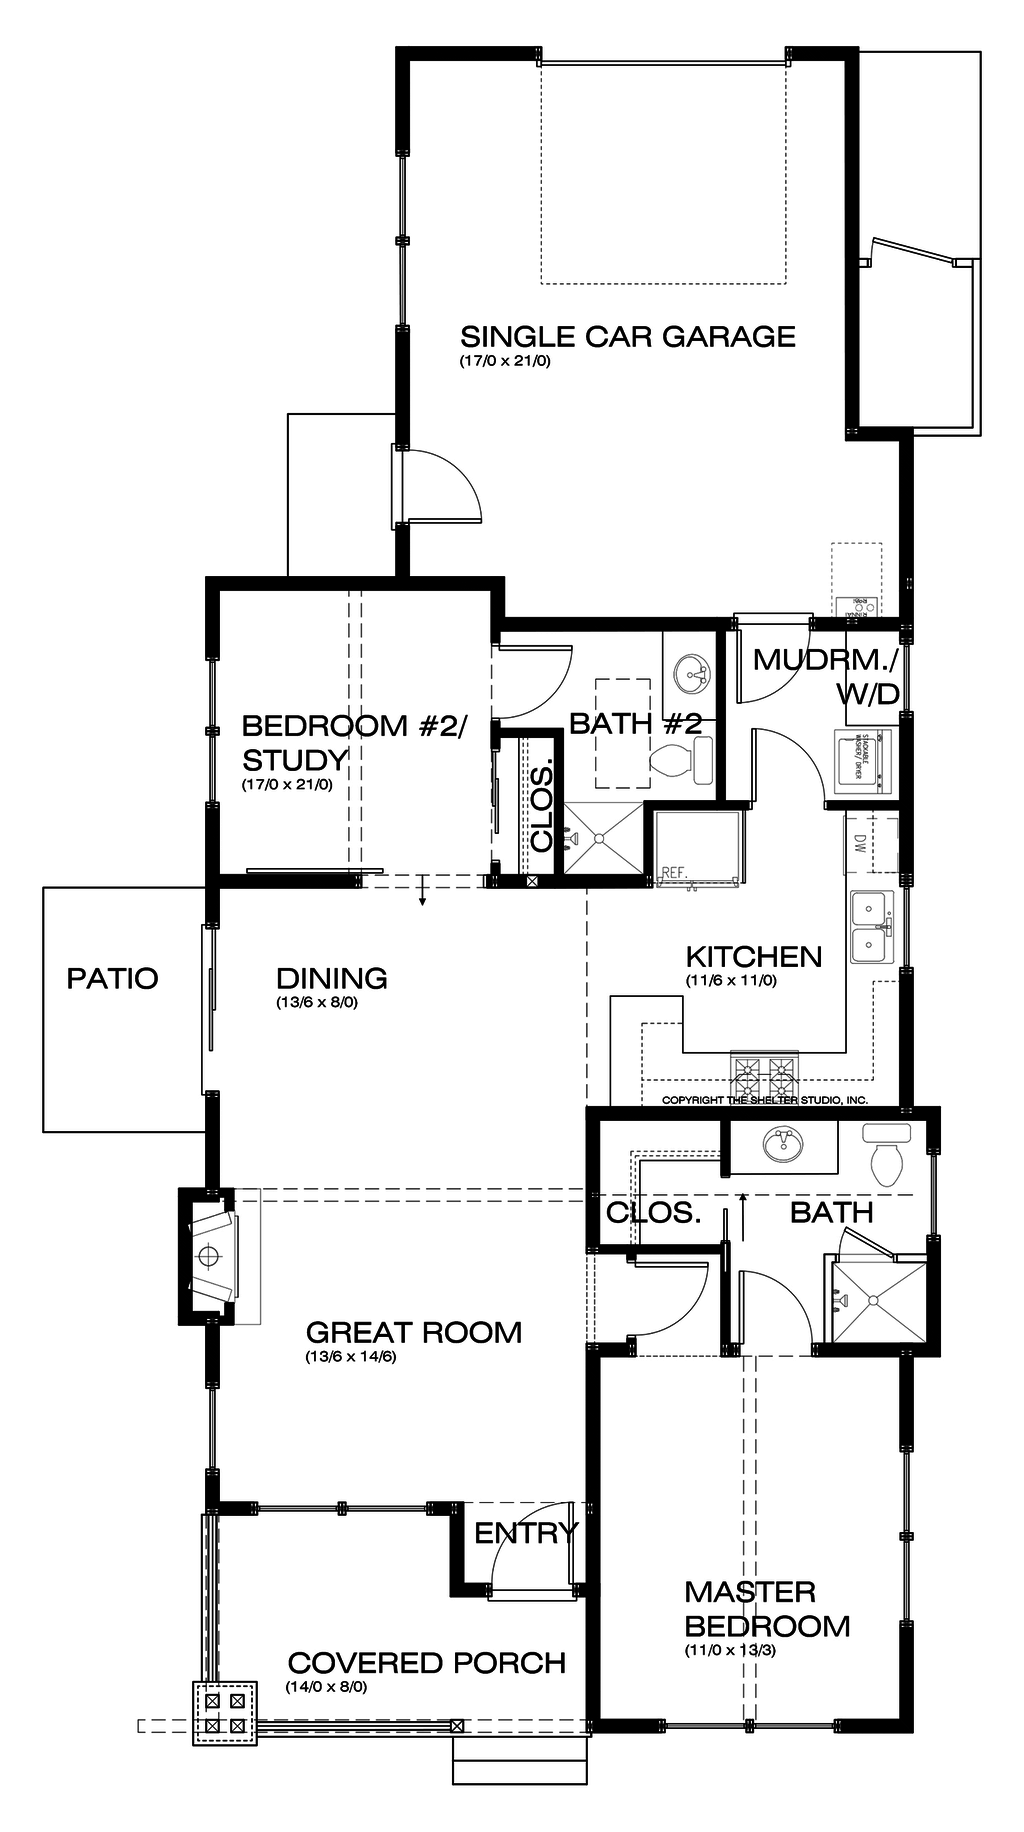door: (374, 429, 491, 544), (479, 1475, 570, 1612), (486, 629, 596, 726), (730, 720, 833, 812), (621, 1246, 710, 1338), (733, 612, 819, 706), (738, 1266, 813, 1360), (830, 1215, 910, 1270)
large_sink: (848, 1115, 925, 1200), (645, 726, 716, 809)
small_sink: (713, 1106, 825, 1183), (659, 637, 720, 726)
twin_sink: (833, 877, 922, 975)
